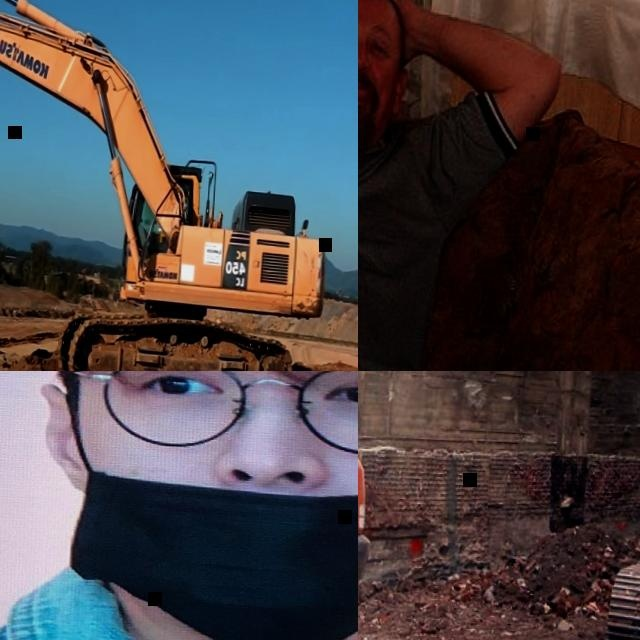Mask: (56, 404, 358, 640)
NO-Hardhat: (358, 0, 406, 30)
NO-Mask: (358, 64, 403, 149)
NO-Safety Vest: (358, 110, 449, 371)
Person: (0, 371, 358, 640), (358, 0, 572, 371)
machinery: (0, 0, 342, 371)
